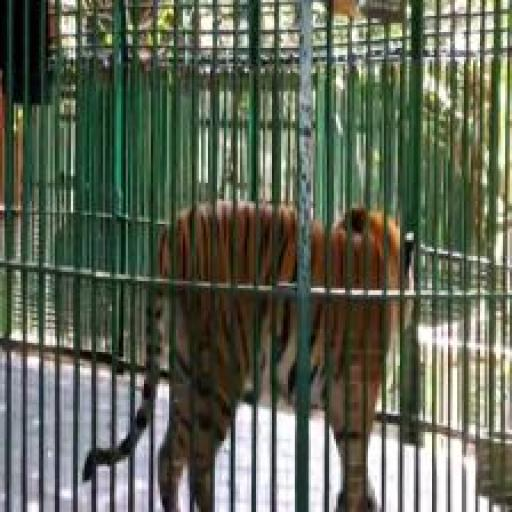Tiger: (73, 169, 423, 512)
